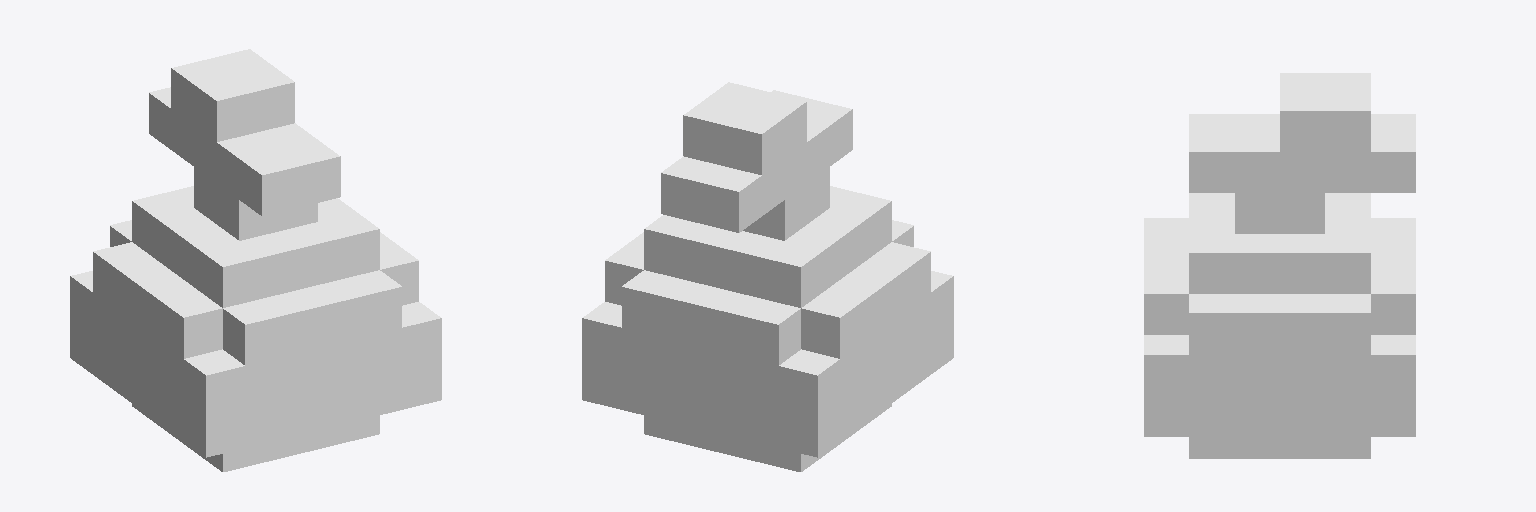
Rendered from Sack.obj.
3 views of the same model, side by side, from view 1: azimuth 30°, elevation 25°; view 2: azimuth 150°, elevation 25°; view 3: azimuth 270°, elevation 25° (orthographic).
Parts seen in each view (by area): view 1: Sack; view 2: Sack; view 3: Sack.
Boxes of the visible parts, box(x1,y1,x2,y2) form: Sack: box(70, 49, 441, 471); Sack: box(582, 82, 953, 471); Sack: box(1144, 73, 1415, 458).
Size of the model in its own units: 6 by 8 by 6.